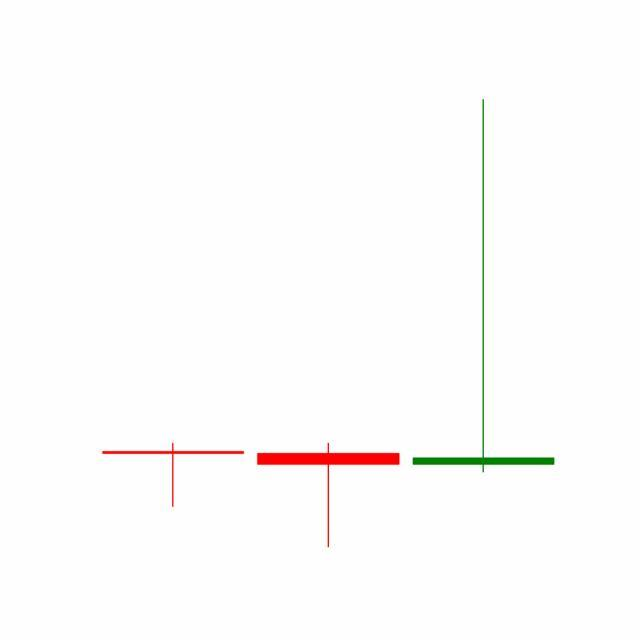Hanging Man: (250, 442, 407, 550)
